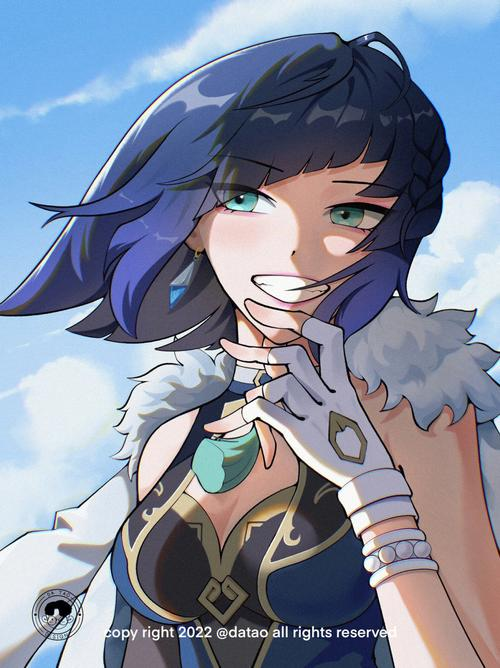夜兰: (55, 30, 500, 668)
